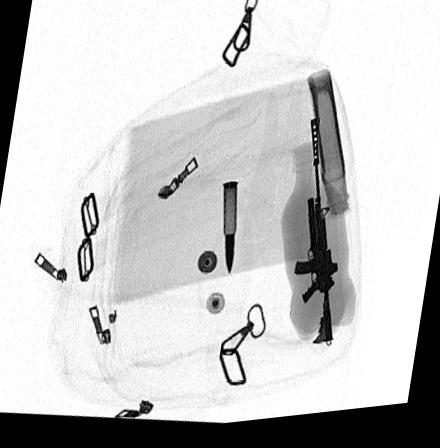Bullet: (223, 185, 238, 281)
Gun: (294, 123, 339, 352)
